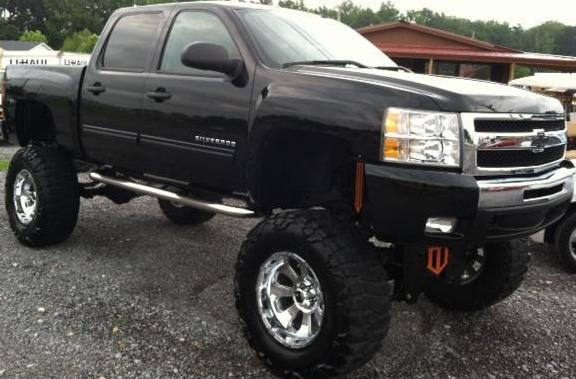front_view: (365, 85, 576, 243)
headlight: (378, 100, 468, 176)
side_glass: (90, 8, 248, 80)
